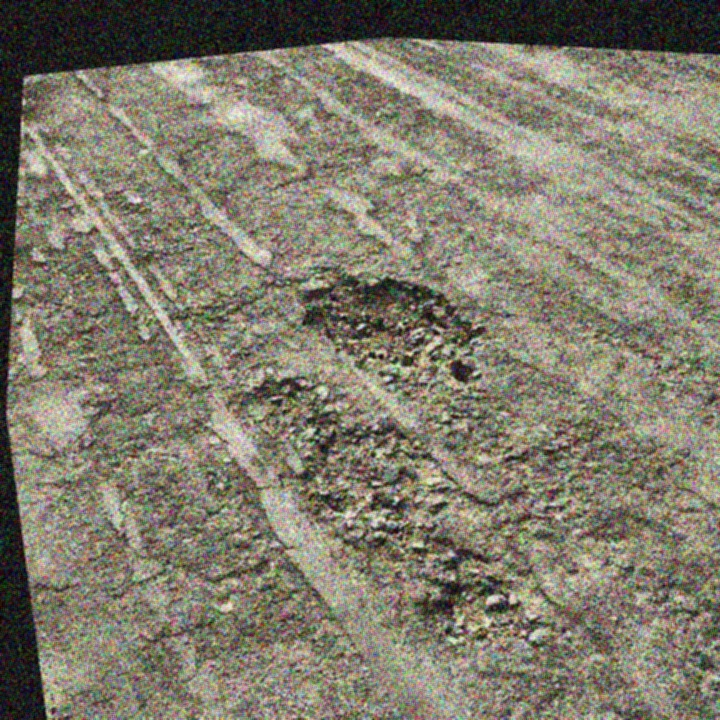pothole: (229, 339, 556, 681), (286, 237, 501, 418)
